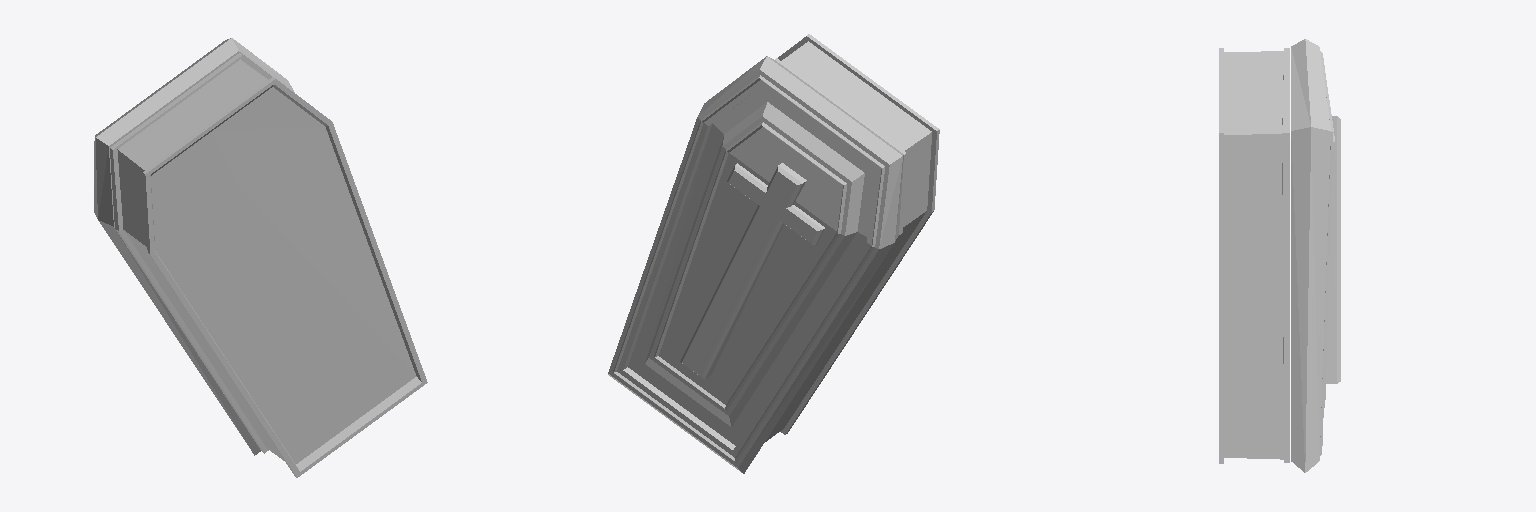
Rendered from coffin.obj.
The picture shows the model from 3 angles: view 1: azimuth 30°, elevation 25°; view 2: azimuth 150°, elevation 25°; view 3: azimuth 270°, elevation 25°; orthographic projection.
Visible parts, largest first — view 1: coffin_bottom.001_Cube.061; view 2: coffin_bottom.001_Cube.061; view 3: coffin_bottom.001_Cube.061.
Part boxes in pixels (left/top/right/bottom): coffin_bottom.001_Cube.061: left=94, top=38, right=427, bottom=477; coffin_bottom.001_Cube.061: left=608, top=34, right=939, bottom=473; coffin_bottom.001_Cube.061: left=1219, top=39, right=1340, bottom=472.
Size of the model in its own units: 1.81 by 2.49 by 0.651.